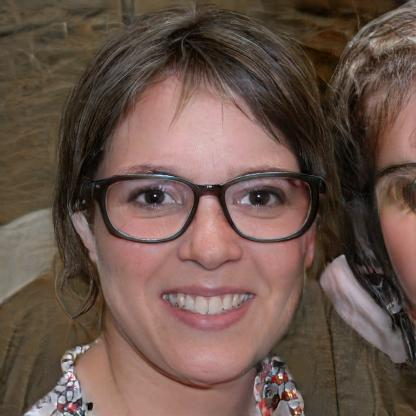glasses: (96, 169, 316, 253)
